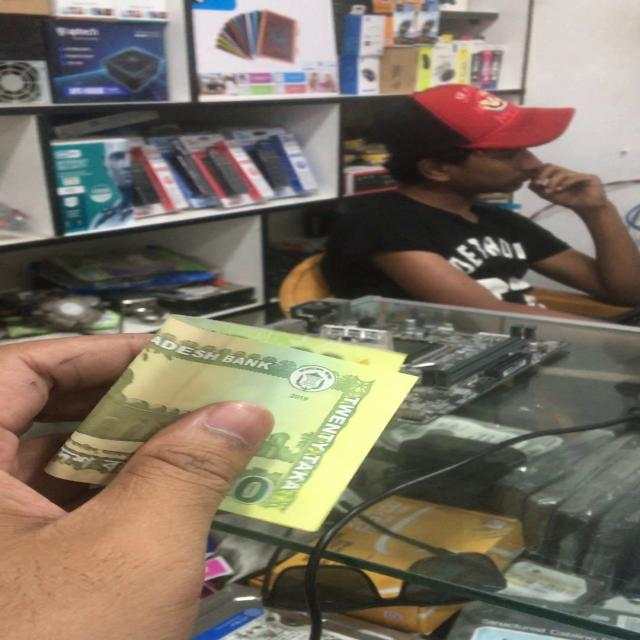Taka: (72, 310, 408, 525)
